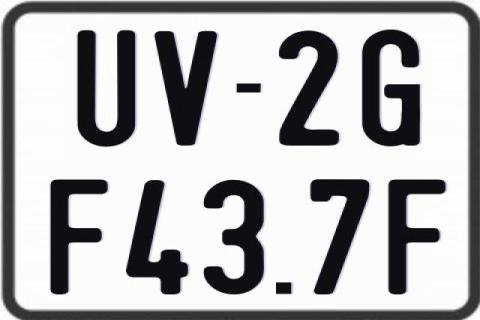0: (125, 179, 191, 299), (204, 180, 269, 298), (278, 29, 344, 144), (308, 177, 367, 295)
F: (47, 178, 105, 298), (388, 178, 448, 294)
G: (361, 30, 423, 152)
U: (74, 30, 138, 148)
V: (153, 30, 216, 144)
